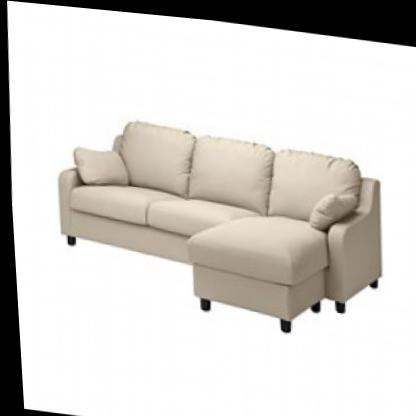Sofa: (42, 95, 393, 344)
